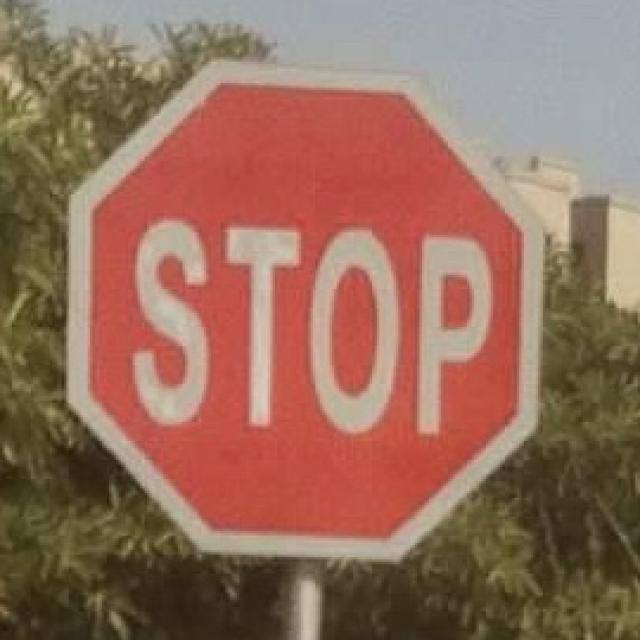stop: (66, 58, 544, 567)
